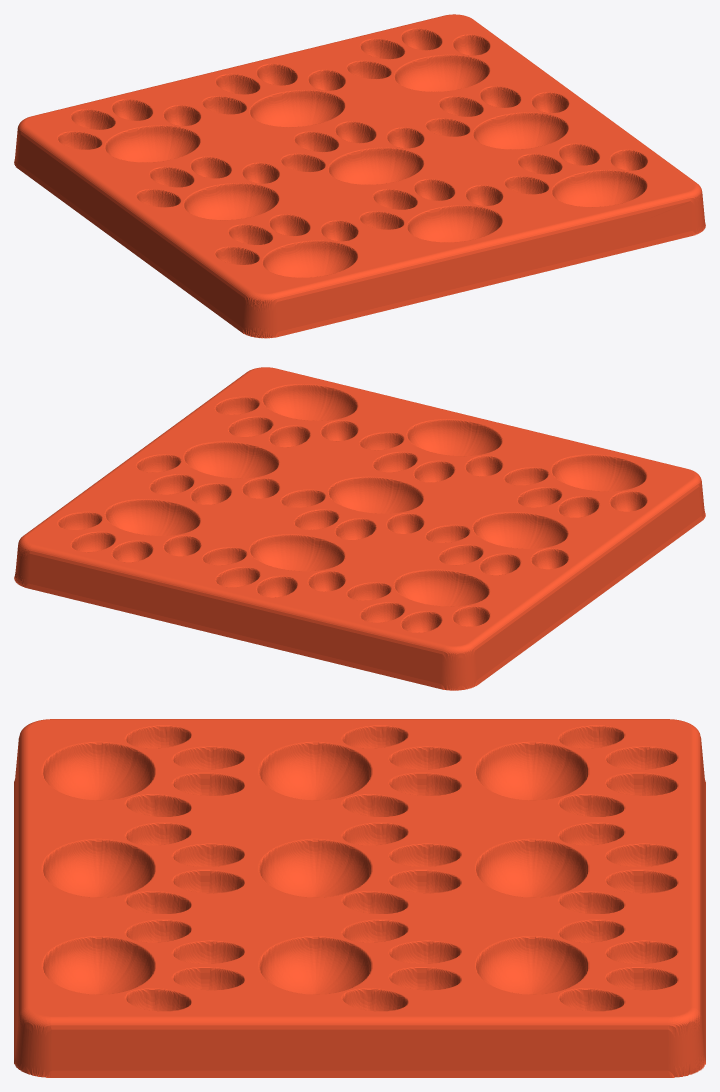
The model's file is mold.glb.
3 views of the same model, one above another, from view 1: azimuth 30°, elevation 25°; view 2: azimuth 150°, elevation 25°; view 3: azimuth 270°, elevation 25° (orthographic). The views are drawn at different scales.
Visible parts, largest first — view 1: geometry_0; view 2: geometry_0; view 3: geometry_0.
Boxes of the visible parts, x1,y1,x2,y2 form: geometry_0: (14, 14, 705, 338); geometry_0: (14, 367, 705, 690); geometry_0: (14, 719, 705, 1077).
Size of the model in its own units: 0.1749 by 0.0145 by 0.1655.
